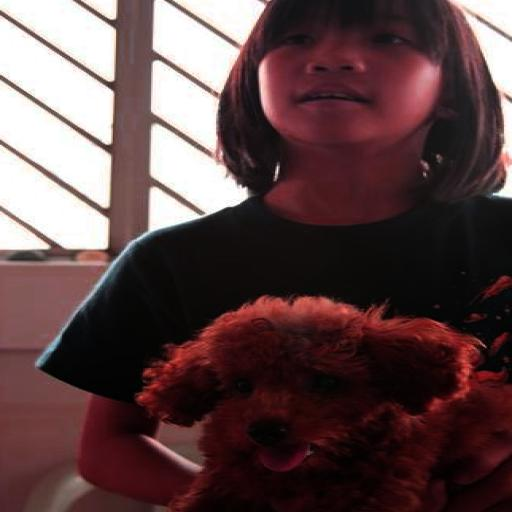dog_face: (135, 306, 463, 476)
